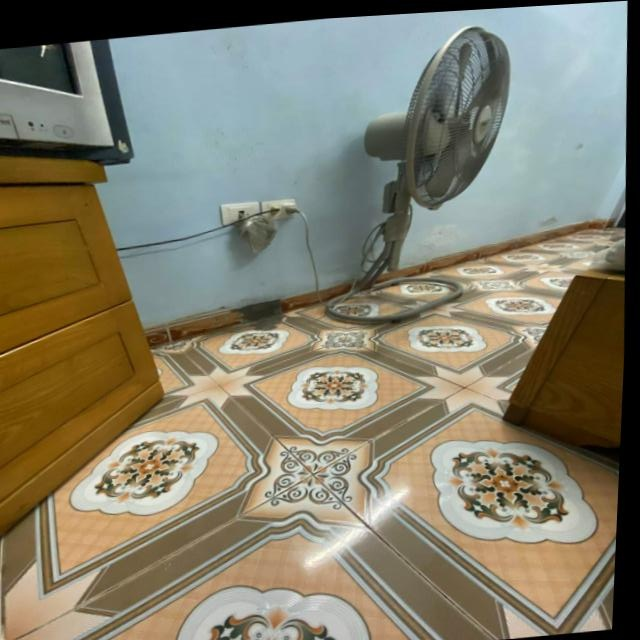outlet: (221, 201, 263, 226), (262, 197, 299, 220)
